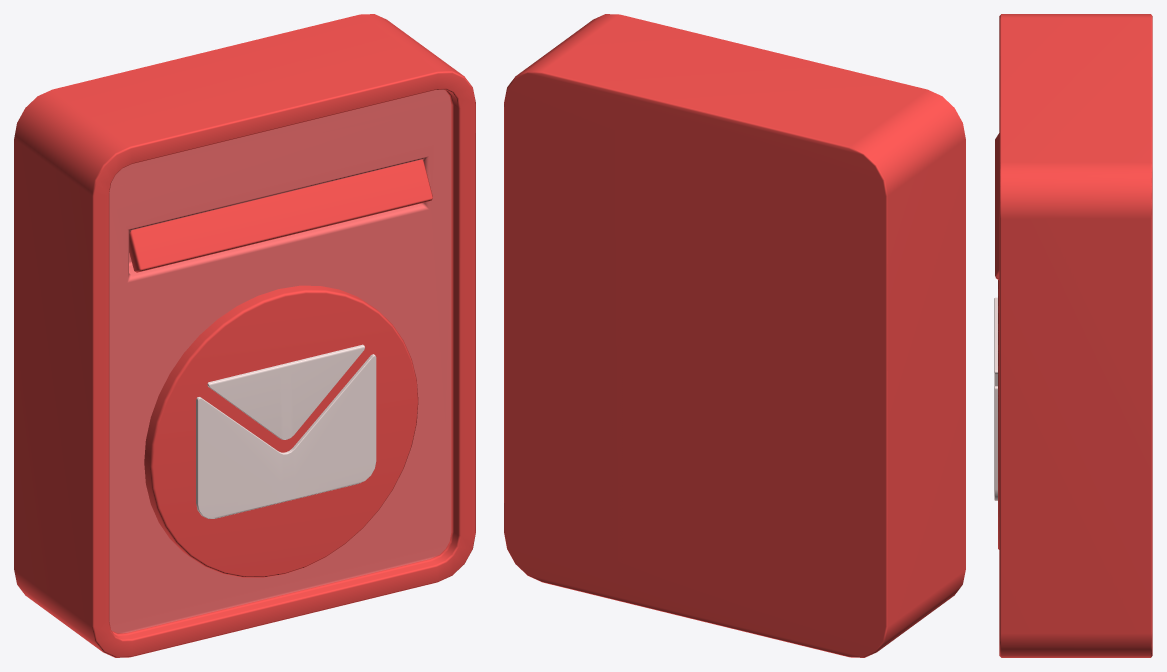
Rendered from City_18_Mailbox_1.glb.
3 views of the same model, side by side, from view 1: azimuth 30°, elevation 25°; view 2: azimuth 150°, elevation 25°; view 3: azimuth 270°, elevation 25° (orthographic). The views are drawn at different scales.
Parts seen in each view (by area): view 1: City_18_Mailbox_1; view 2: City_18_Mailbox_1; view 3: City_18_Mailbox_1.
Part boxes in pixels (x1,y1,x2,y2): City_18_Mailbox_1: (14,14,475,657); City_18_Mailbox_1: (504,14,965,657); City_18_Mailbox_1: (994,14,1152,657).
Bounding box in the file's own units: 0.5775 × 0.7342 × 0.214.
1 material, 1 textured.
